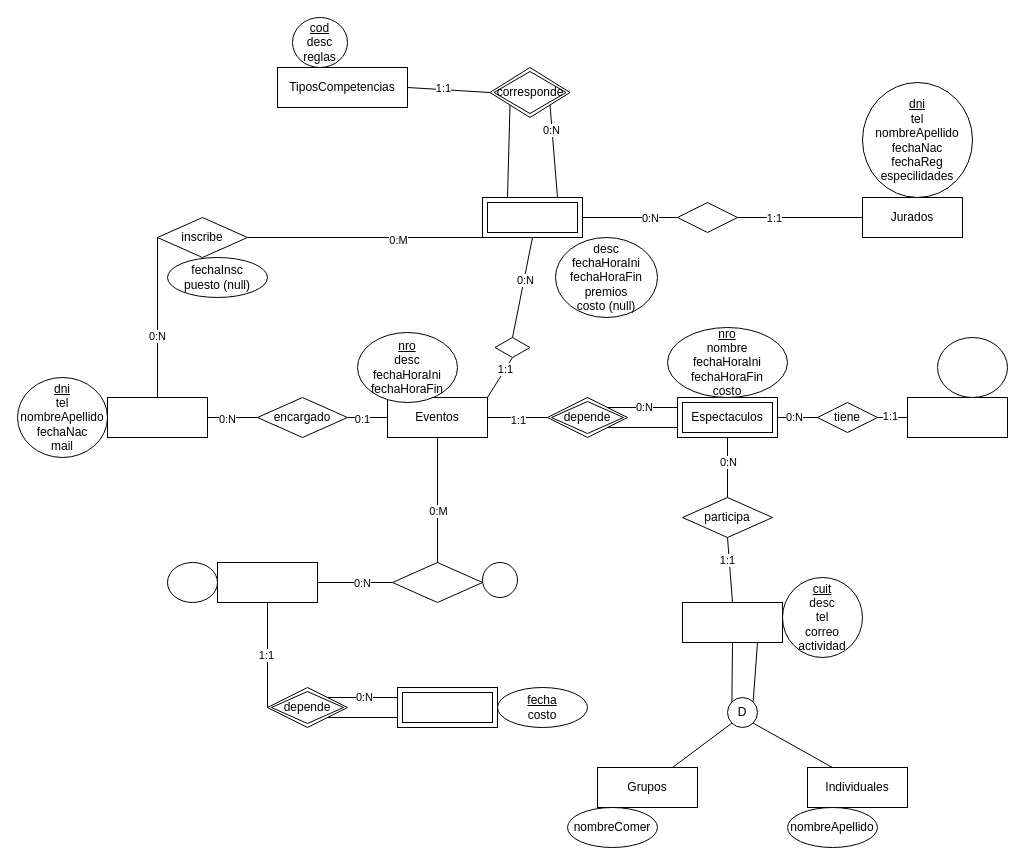
The diagram is 1025 pixels wide and 865 high, and some of its shapes have lost their labels. Each missing label, with the centre of its shape:
"Artistas" goes at (732,622).
"cant" goes at (500,580).
"cod desc" goes at (192,582).
"cod nombre direccion url" goes at (972,367).
"Competencias" goes at (532,217).
"CostosDiario" goes at (447,707).
"en" goes at (512,347).
"juzgan" goes at (707,217).
"Lugar" goes at (957,417).
"necesita" goes at (437,582).
"Personas" goes at (157,417).
"Recursos" goes at (267,582).
